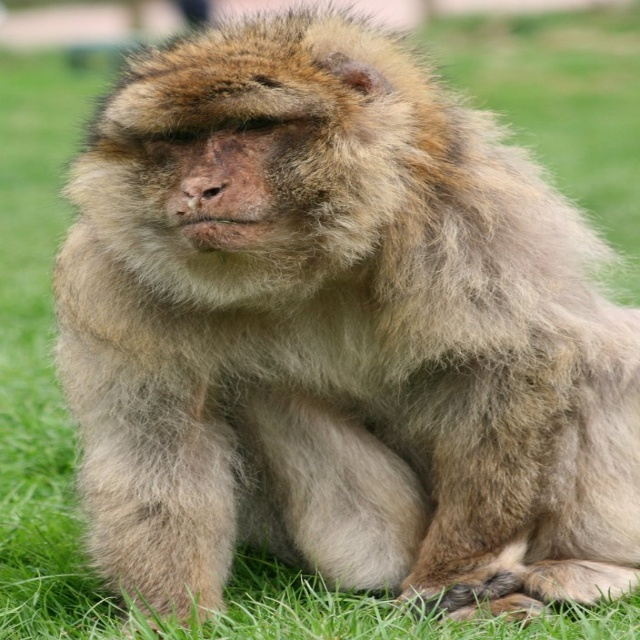Monkey: (39, 0, 639, 640)
